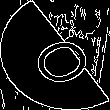O_NE: (15, 23, 95, 87)
